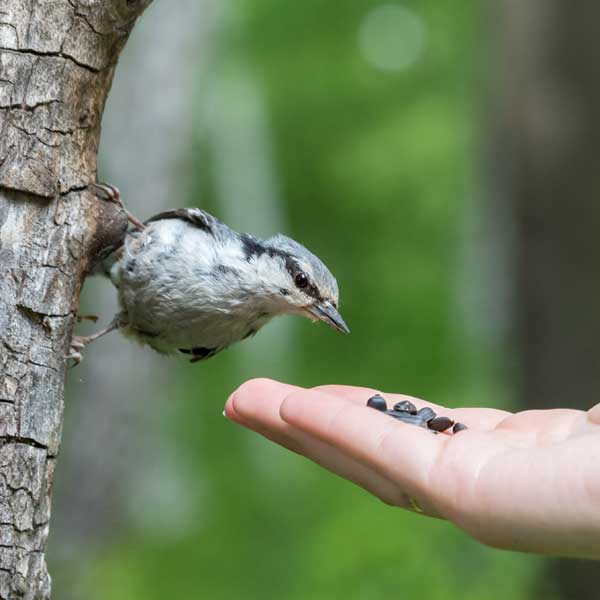bird: (67, 150, 360, 389)
